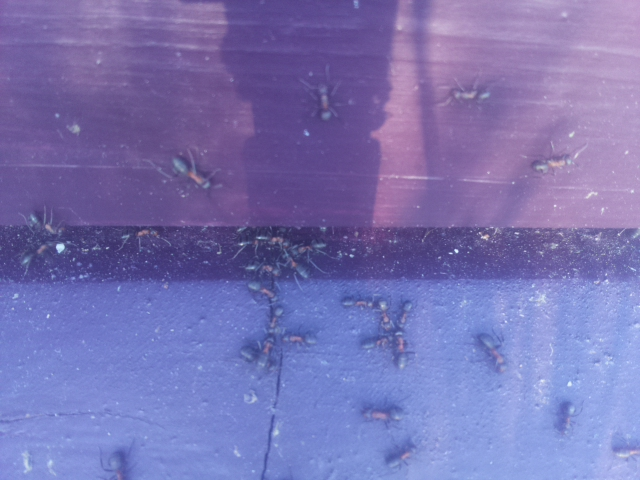ant: (360, 291, 421, 364), (162, 141, 230, 205), (232, 322, 289, 378), (239, 273, 290, 326), (472, 325, 511, 382), (525, 147, 574, 178), (443, 82, 498, 107), (101, 445, 134, 480), (310, 73, 337, 112), (554, 397, 578, 439)
